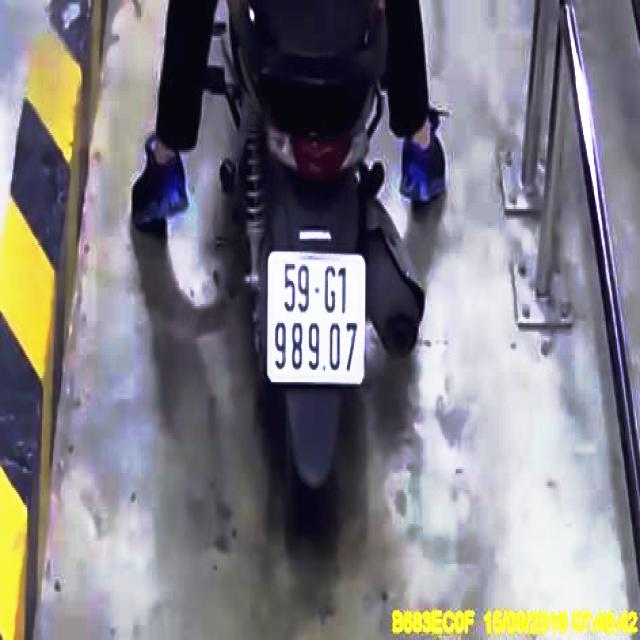license_plate: (269, 253, 364, 382)
